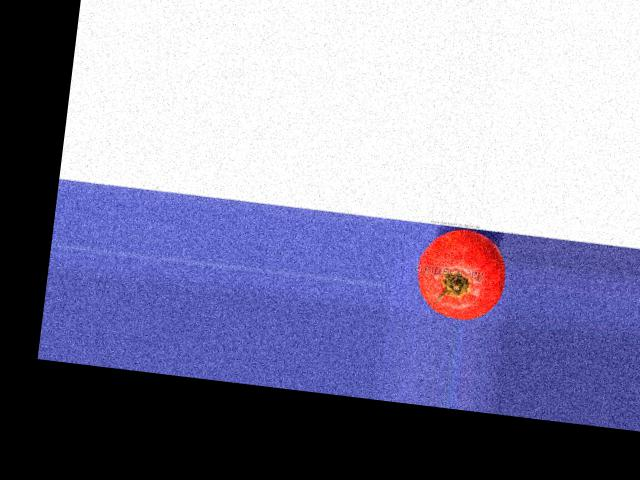tomato: (413, 226, 510, 323)
